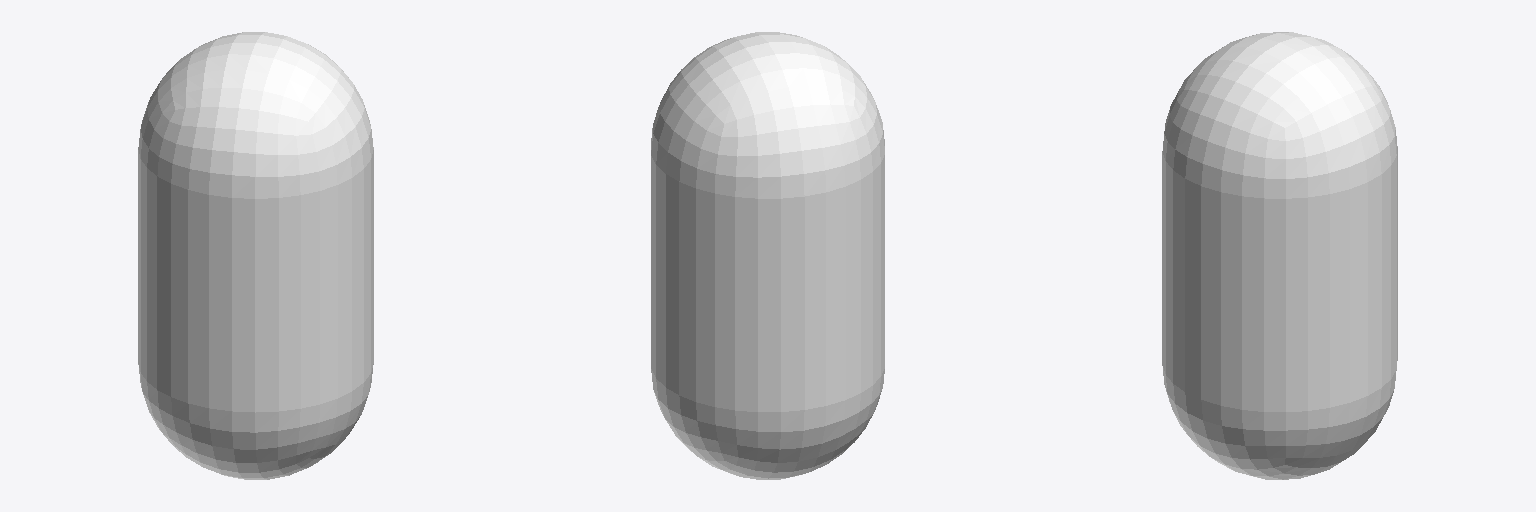
Rendered from unityexport.obj.
The picture shows the model from 3 angles: view 1: azimuth 30°, elevation 25°; view 2: azimuth 150°, elevation 25°; view 3: azimuth 270°, elevation 25°; orthographic projection.
Parts seen in each view (by area): view 1: Capsule; view 2: Capsule; view 3: Capsule.
Part boxes in pixels (x1,y1,x2,y2): Capsule: (138, 32, 373, 479); Capsule: (651, 32, 884, 479); Capsule: (1162, 32, 1397, 479).
Bounding box in the file's own units: 2 × 4 × 2.